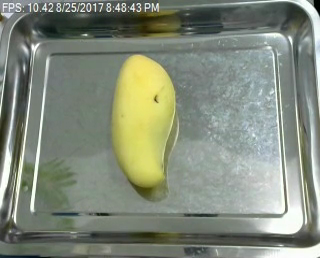Mango: (107, 51, 176, 191)
